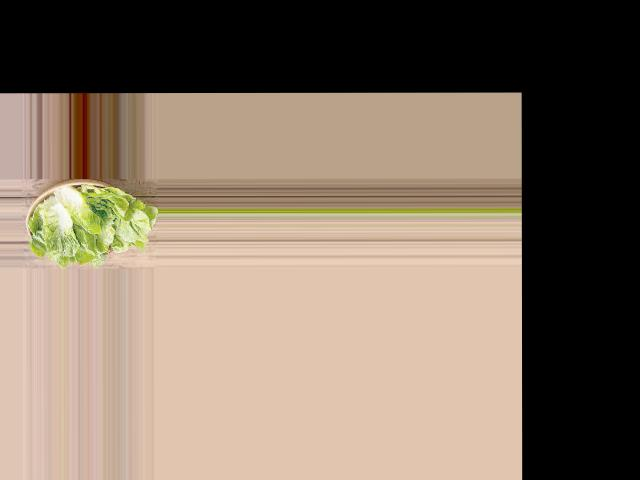lettuce: (20, 179, 155, 264)
